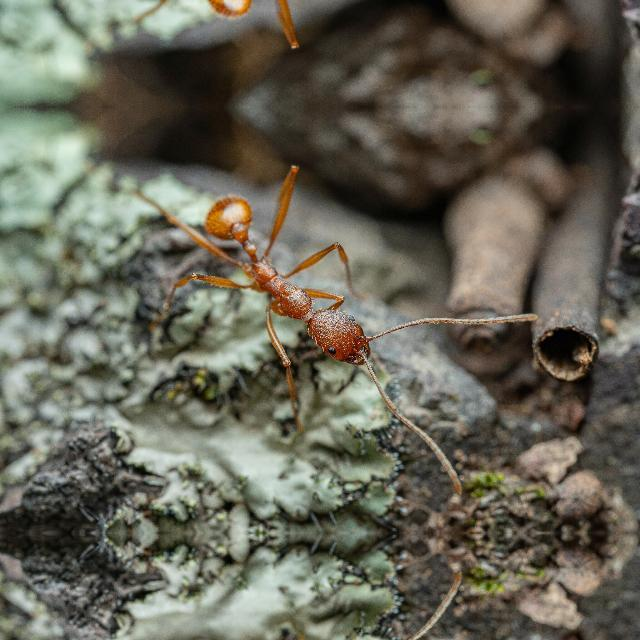Apheanogaster: (147, 169, 431, 393)
